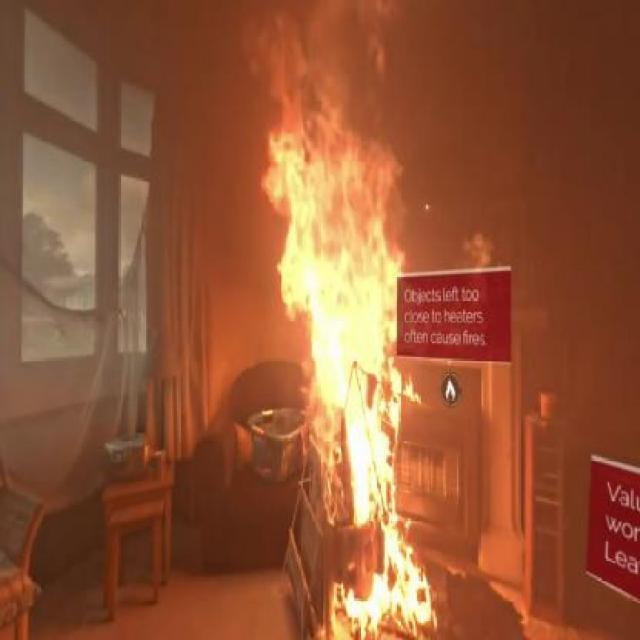fire: (273, 131, 404, 494)
smoke: (402, 1, 610, 260), (164, 0, 262, 296)
